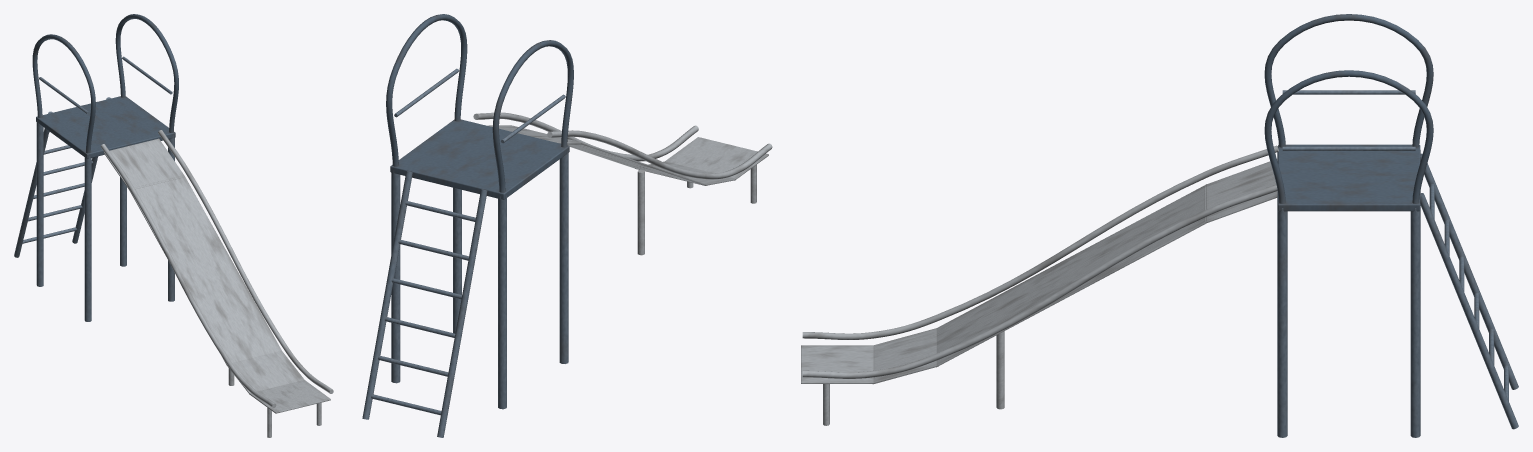
File: ul_zjezdzalnia.glb
3 renders of one model, left to right at view 1: azimuth 30°, elevation 25°; view 2: azimuth 150°, elevation 25°; view 3: azimuth 270°, elevation 25°, orthographic. The views are drawn at different scales.
Visible parts, largest first — view 1: Slizg, Stelaz; view 2: Stelaz, Slizg; view 3: Stelaz, Slizg.
Boxes of the visible parts, bbox=[...] form: Slizg: bbox=[100, 130, 333, 437]; Stelaz: bbox=[14, 14, 178, 321]; Stelaz: bbox=[362, 14, 573, 437]; Slizg: bbox=[473, 112, 772, 255]; Stelaz: bbox=[1264, 14, 1518, 437]; Slizg: bbox=[801, 145, 1278, 425].
Bounding box in the file's own units: 0.904 × 2.55 × 4.53.
Materials: 2 (2 with a texture image).
